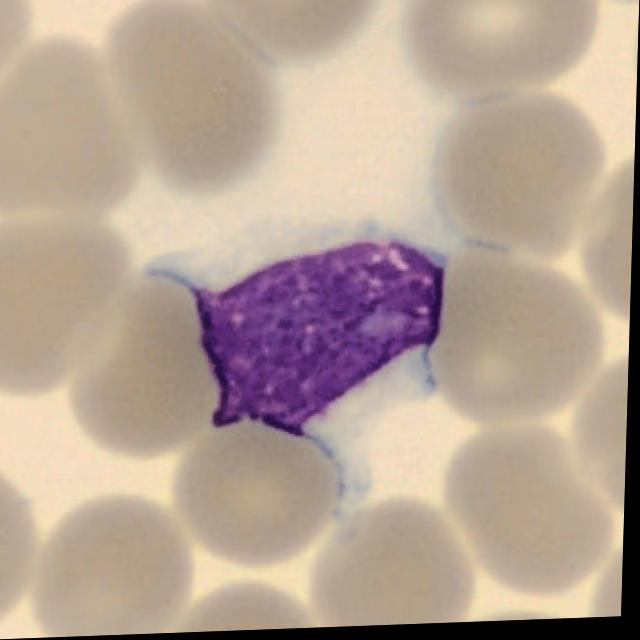Linfocito atipico: (148, 224, 449, 518)
